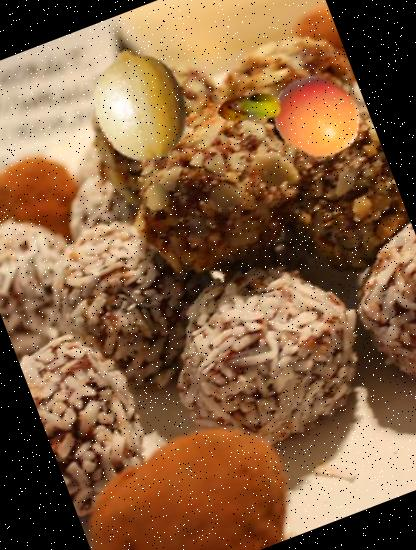Banana: (207, 66, 291, 150)
Grapefruit: (260, 60, 374, 174)
Lemon: (66, 32, 214, 180)
